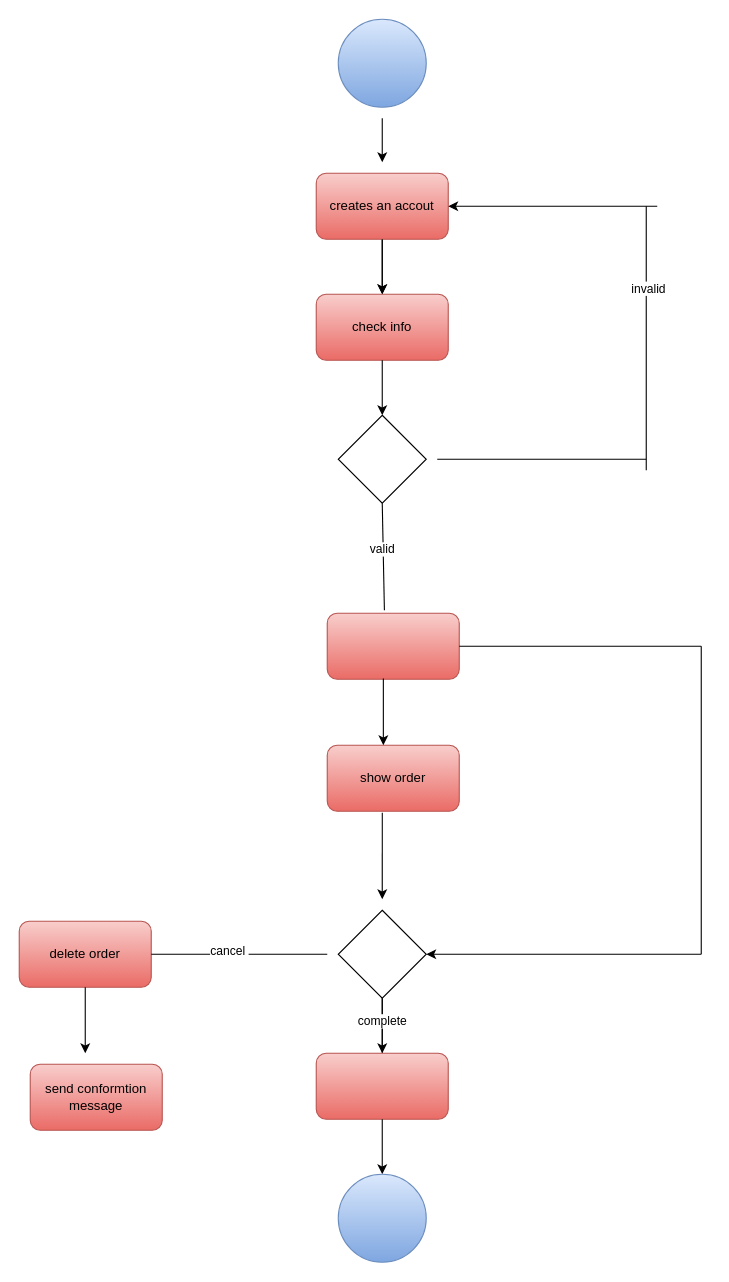
The diagram is 729 pixels wide and 1282 high, and some of its shapes have lost their labels. Here are the shapes that lost their labels. From the top down, the centre of each, then its label:
point 392,645: check food item
point 381,1085: pay fee
